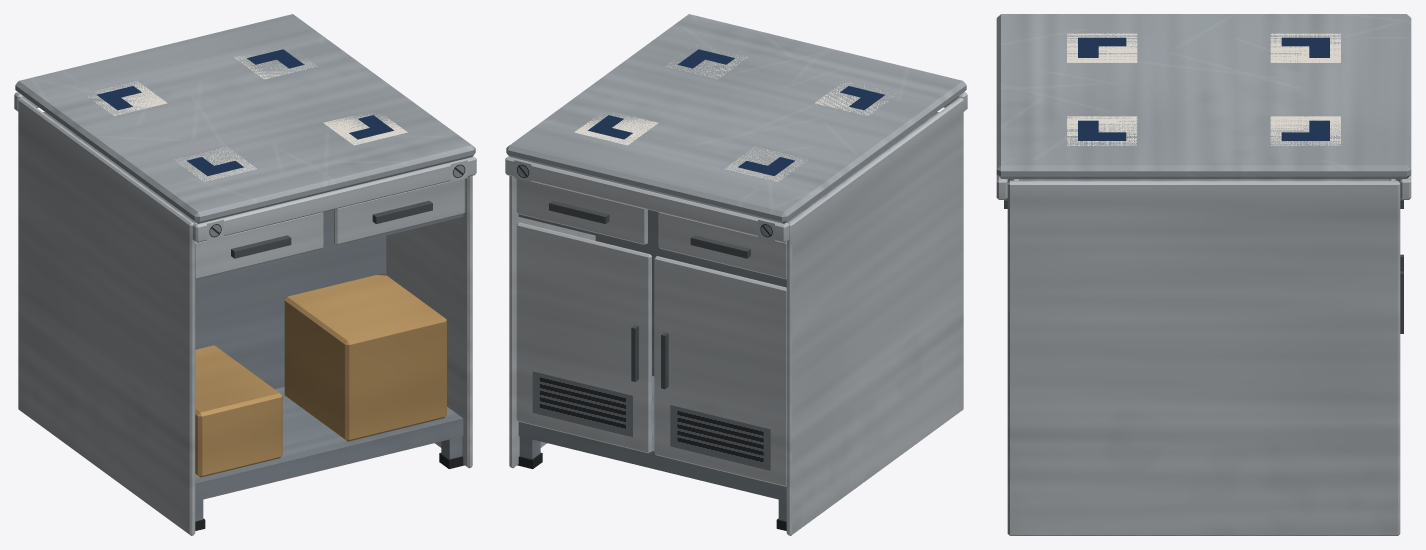
Rendered from pass_end.glb.
3 renders of one model, left to right at view 1: azimuth 30°, elevation 25°; view 2: azimuth 150°, elevation 25°; view 3: azimuth 270°, elevation 25°, orthographic. The views are drawn at different scales.
Parts seen in each view (by area): view 1: pass_end_body; view 2: pass_end_body; view 3: pass_end_body.
Part boxes in pixels (left/top/right/bottom): pass_end_body: left=14, top=14, right=476, bottom=535; pass_end_body: left=505, top=14, right=967, bottom=535; pass_end_body: left=996, top=14, right=1411, bottom=535.
Size of the model in its own units: 1 by 1.1 by 1.12.
7 materials, 6 textured.
